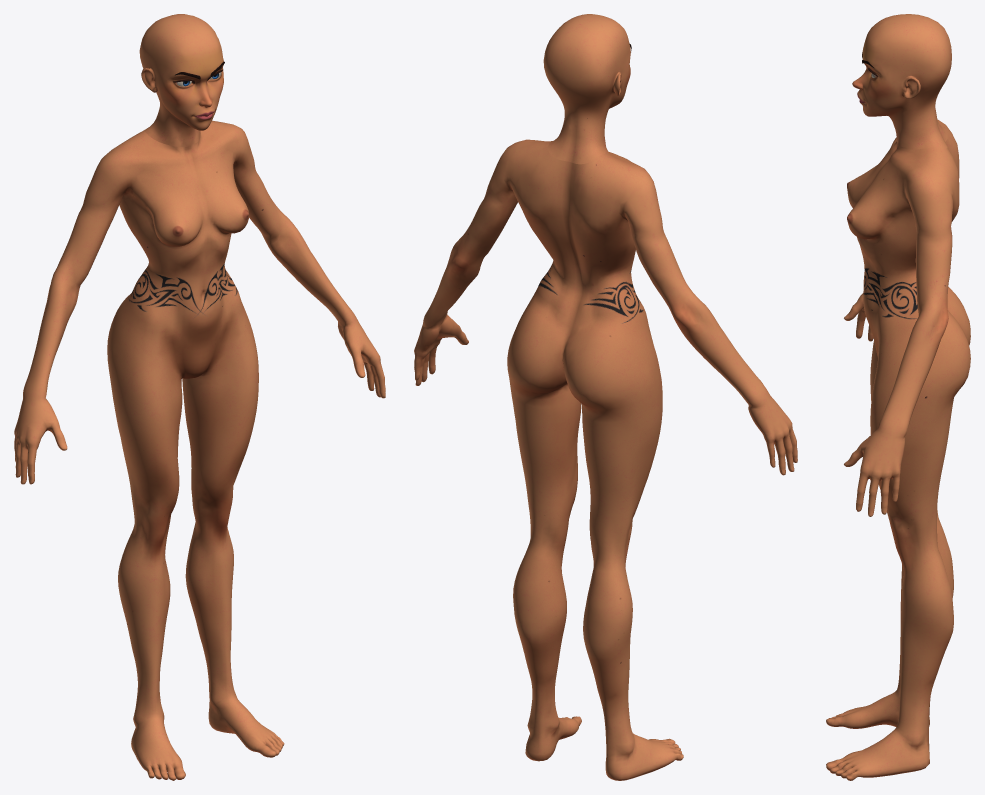
File: Characters.obj
3 views of the same model, side by side, from view 1: azimuth 30°, elevation 25°; view 2: azimuth 150°, elevation 25°; view 3: azimuth 270°, elevation 25° (orthographic). The views are drawn at different scales.
Visible parts, largest first — view 1: body.001_Mesh.009, body.002_Mesh.012; view 2: body.001_Mesh.009, body.002_Mesh.012; view 3: body.001_Mesh.009, body.002_Mesh.012.
Part boxes in pixels (x1,y1,x2,y2): body.001_Mesh.009: (14,120,385,780); body.002_Mesh.012: (139,14,224,146); body.001_Mesh.009: (414,139,797,780); body.002_Mesh.012: (543,14,631,164); body.001_Mesh.009: (826,120,970,780); body.002_Mesh.012: (852,14,951,149).
Bounding box in the file's own units: 8.65 × 16.56 × 2.99.
